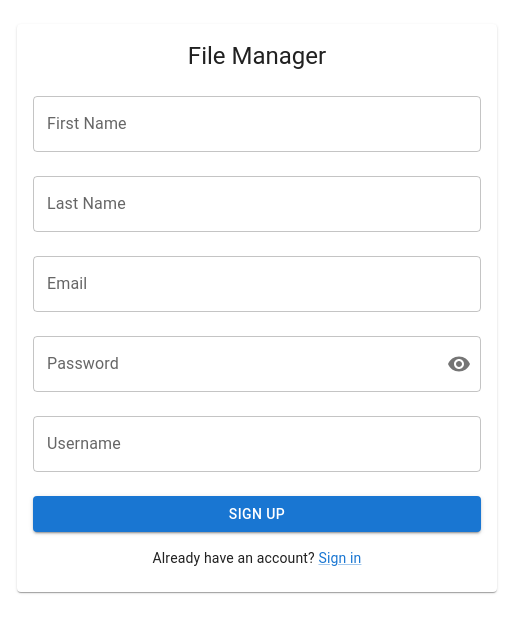
Test: shows username validation error for invalid characters
Type "Jane" into the field labelled "First Name" at (257, 124), box [33,96,481,152]
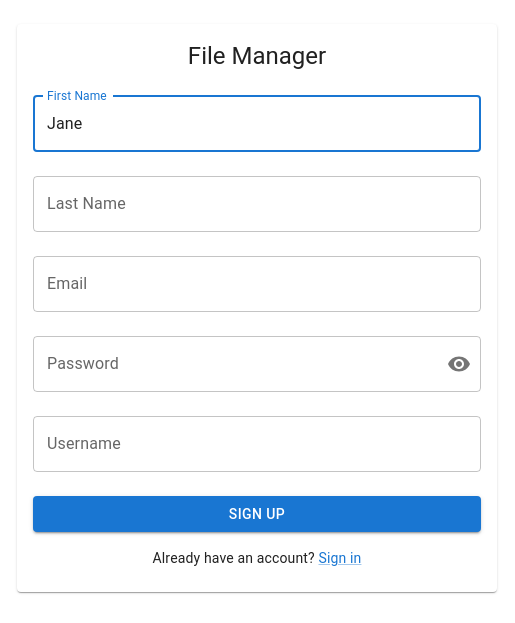
Type "Doe" into the field labelled "Last Name" at (257, 204), box [33,176,481,232]
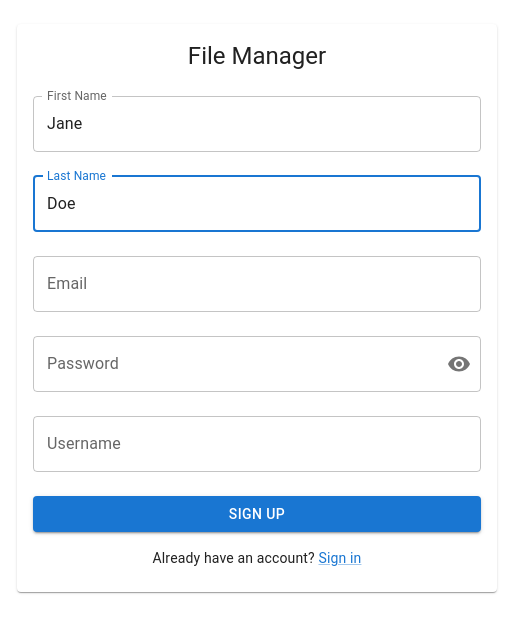
Type "jane@example.com" into the field labelled "Email" at (257, 284), box [33,256,481,312]
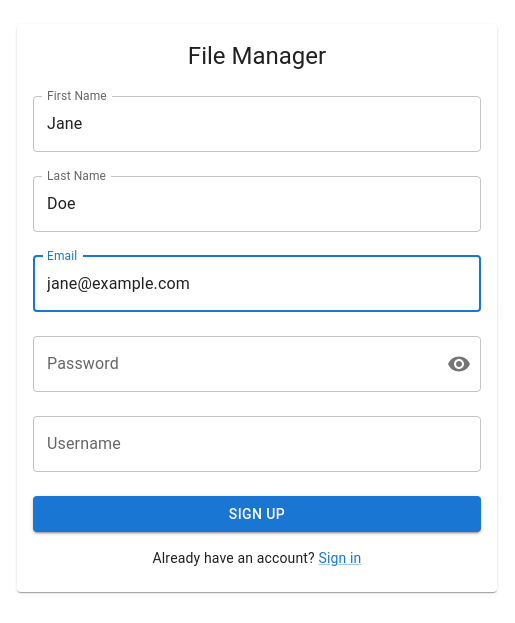
Type "Password123!" into the password field labelled "Password" at (232, 364), box [33,336,431,392]
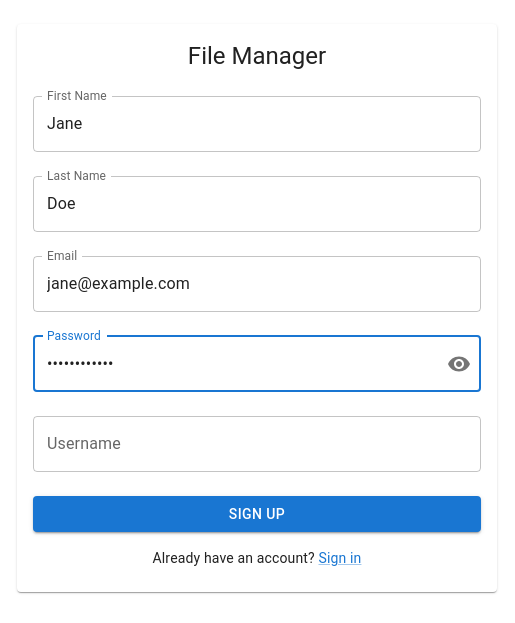
Type "bad username!" into the field labelled "Username" at (257, 444), box [33,416,481,472]
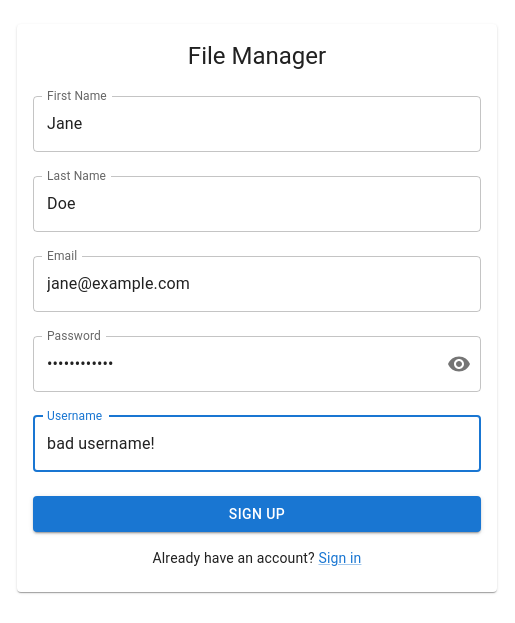
Click the button "Sign Up" at (257, 514), box [33,496,481,532]
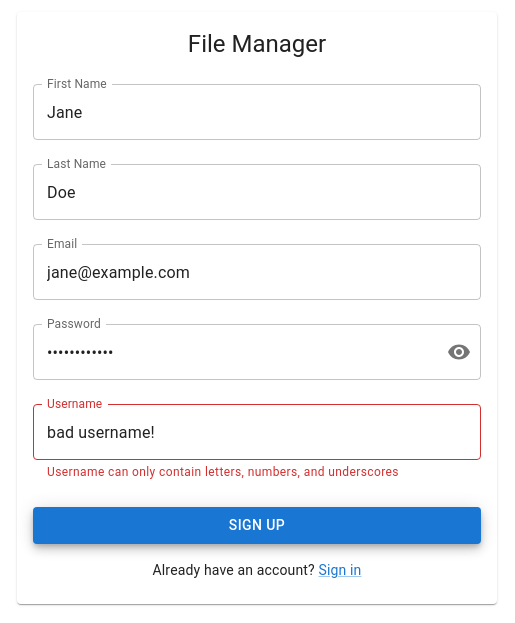
Check: the text "Username can only contain letters, numbers, and underscores" is shown, box [47,466,399,480]
